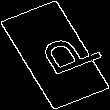P_SW: (16, 27, 94, 83)
